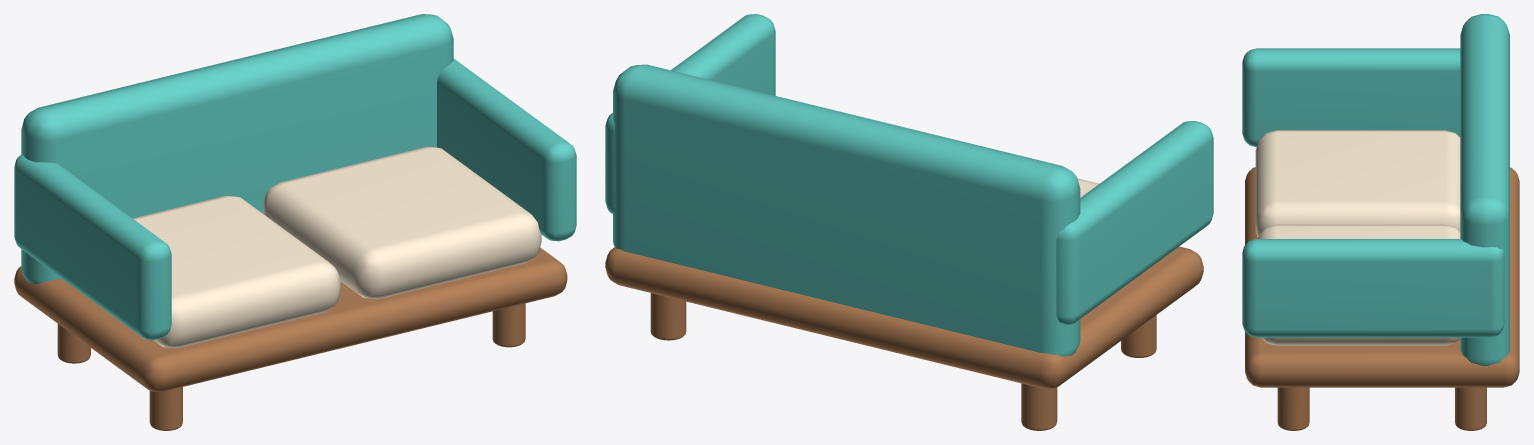
Rendered from bench.glb.
3 renders of one model, left to right at view 1: azimuth 30°, elevation 25°; view 2: azimuth 150°, elevation 25°; view 3: azimuth 270°, elevation 25°, orthographic. The views are drawn at different scales.
Parts seen in each view (by area): view 1: Upholstered back, Peach seat cushion.001, Seat timber cradle, Peach seat cushion, Seat arm, Seat arm.001, Seat foot.001, Seat foot.003, Seat foot; view 2: Upholstered back, Seat timber cradle, Seat arm, Seat arm.001, Seat foot, Seat foot.002, Seat foot.001; view 3: Seat arm.001, Peach seat cushion, Seat arm, Seat timber cradle, Upholstered back, Peach seat cushion.001, Seat foot.003, Seat foot.002.
Boxes of the visible parts, x1,y1,x2,y2 form: Upholstered back: (21, 14, 453, 284); Peach seat cushion.001: (263, 146, 541, 299); Seat timber cradle: (14, 247, 567, 392); Peach seat cushion: (133, 195, 340, 348); Seat arm: (14, 154, 171, 339); Seat arm.001: (437, 58, 576, 241); Seat foot.001: (149, 387, 182, 430); Seat foot.003: (492, 303, 525, 347); Seat foot: (57, 324, 90, 363); Upholstered back: (613, 64, 1080, 356); Seat timber cradle: (605, 246, 1203, 388); Seat arm: (1056, 121, 1213, 324); Seat arm.001: (605, 14, 775, 213); Seat foot: (1021, 383, 1057, 430); Seat foot.002: (650, 293, 686, 340); Seat foot.001: (1121, 315, 1156, 357); Seat arm.001: (1242, 239, 1504, 337); Peach seat cushion: (1255, 130, 1460, 237); Seat arm: (1242, 48, 1460, 147); Seat timber cradle: (1245, 167, 1519, 387); Upholstered back: (1460, 14, 1509, 365); Peach seat cushion.001: (1257, 224, 1460, 345); Seat foot.003: (1277, 387, 1309, 430); Seat foot.002: (1455, 387, 1486, 430).
Bounding box in the file's own units: 2.74 × 1.48 × 1.57.
